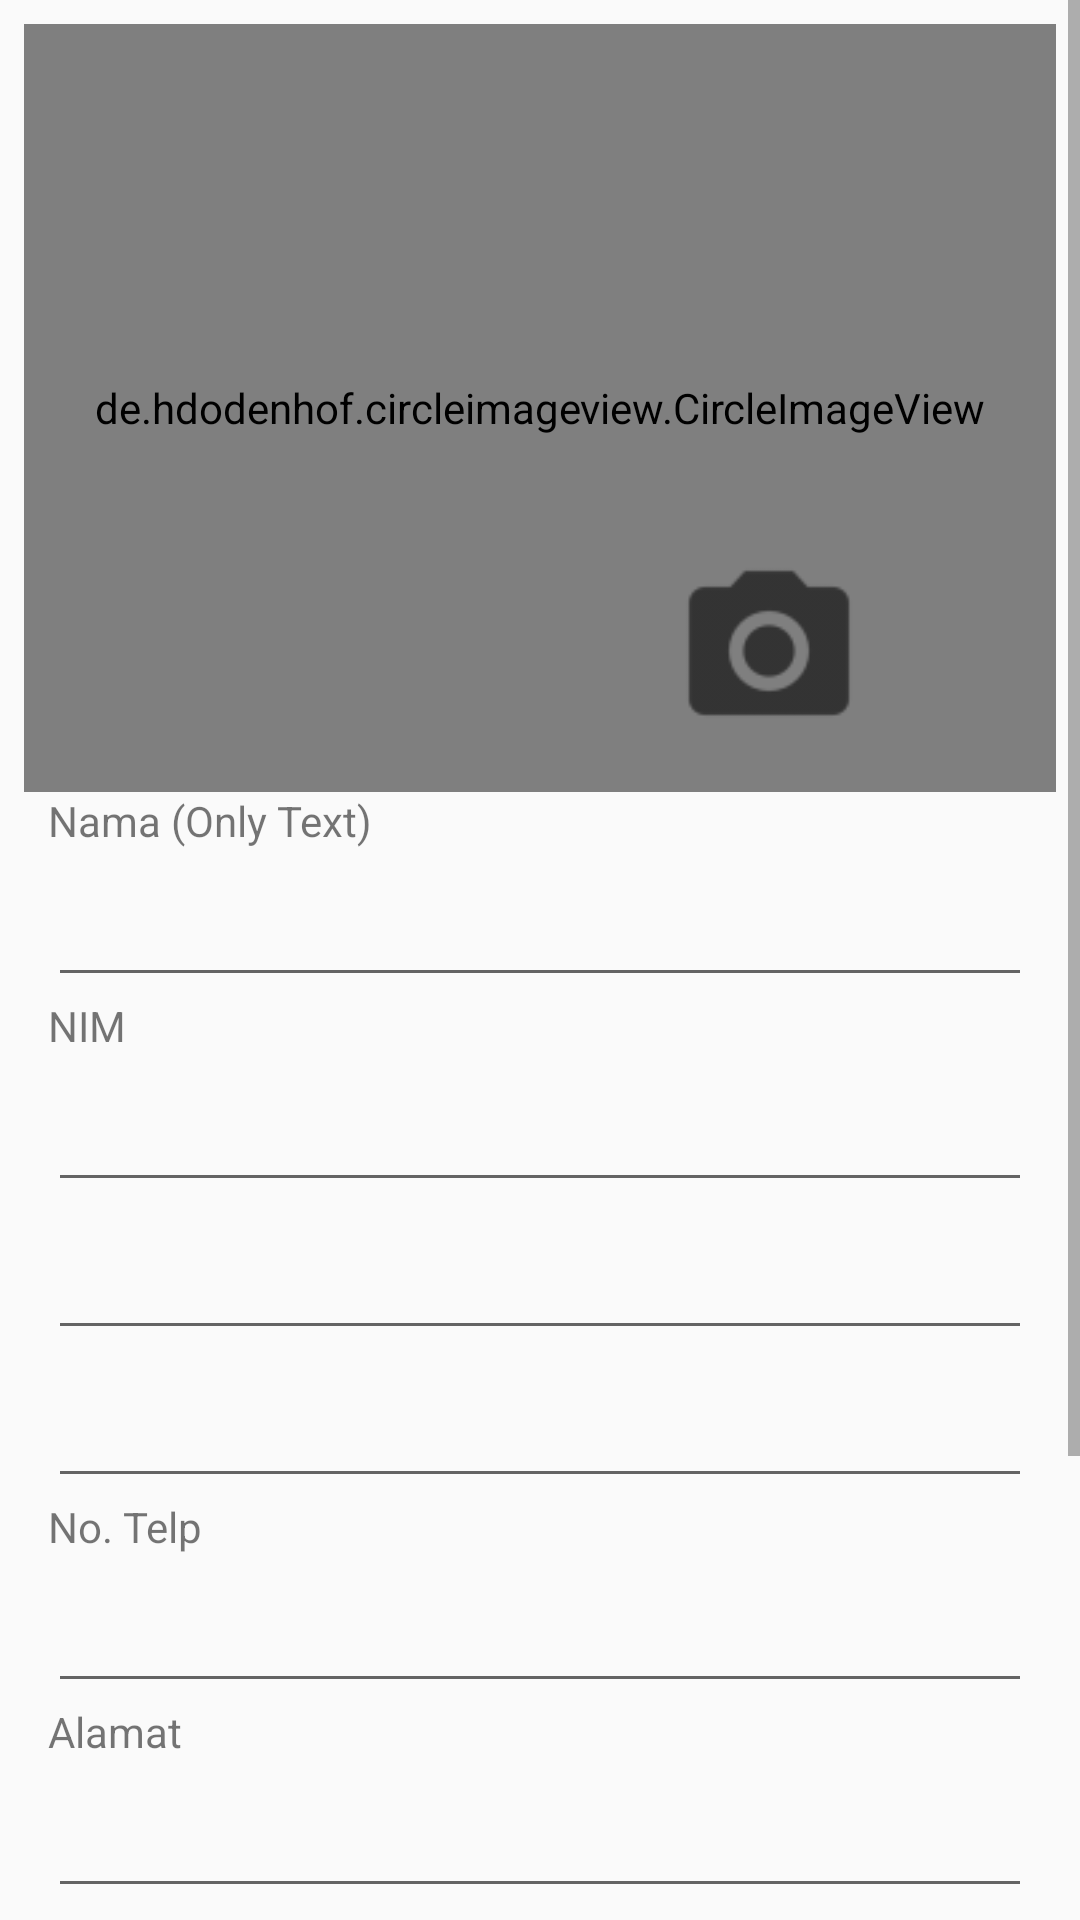

Icon bounding boxes for this 1080w x 1920h phone screenshot, format [x1,y1,x2,y2]:
camera: [688,570,850,716]
